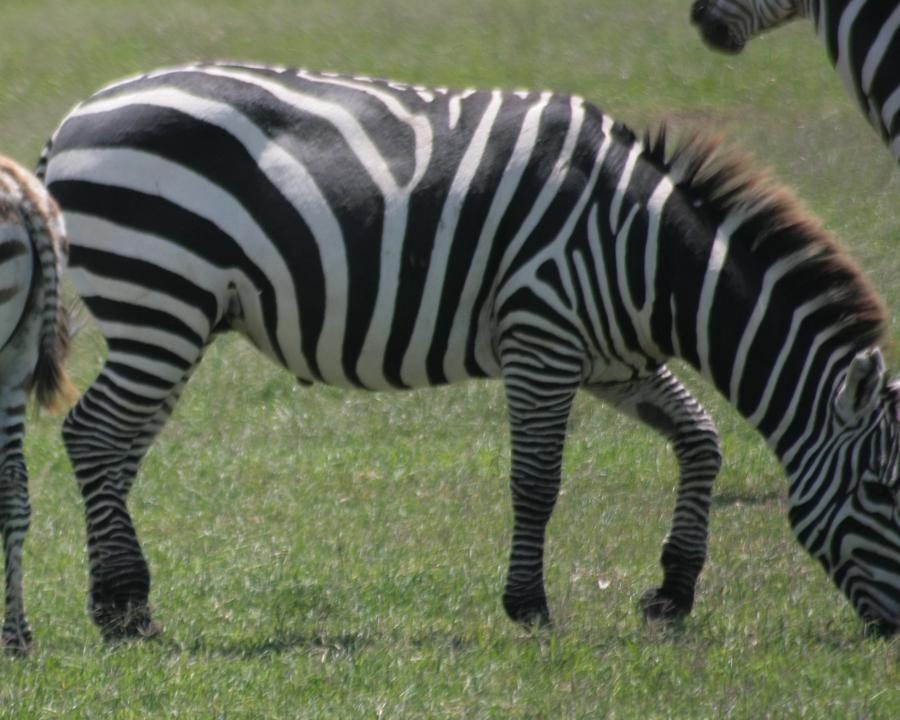zebra_plains: (65, 67, 631, 379)
